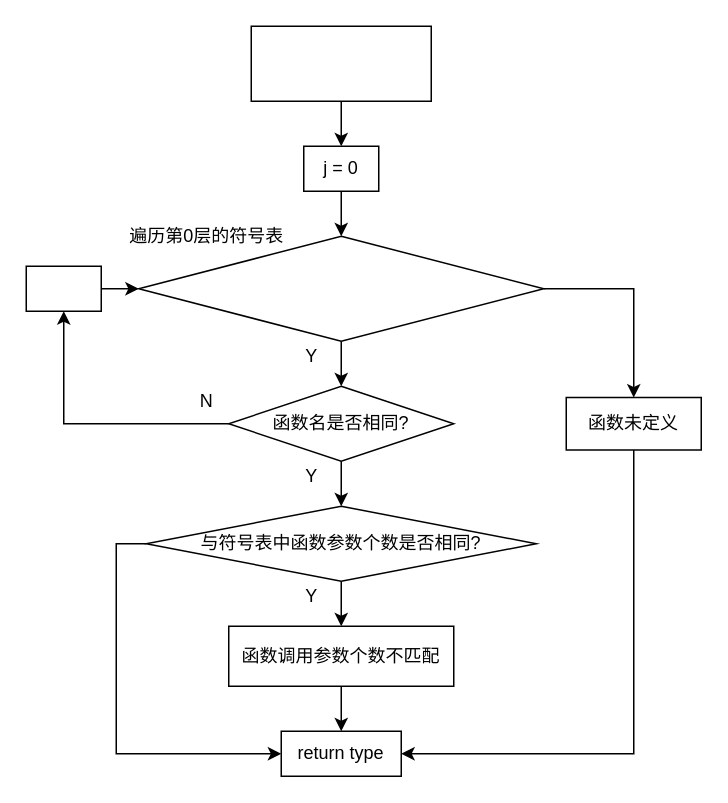
Image size: 728x803. Some labels were removed from this diagram. The box of each missing label's shape, as (x1, y1, x2, y2) in pixels:
case FUNC_CALL: (250, 25, 431, 101)
j++: (25, 265, 101, 311)
symbolTable.symbols[j].level==0&& j<symbolTable.index: (137, 235, 544, 341)
